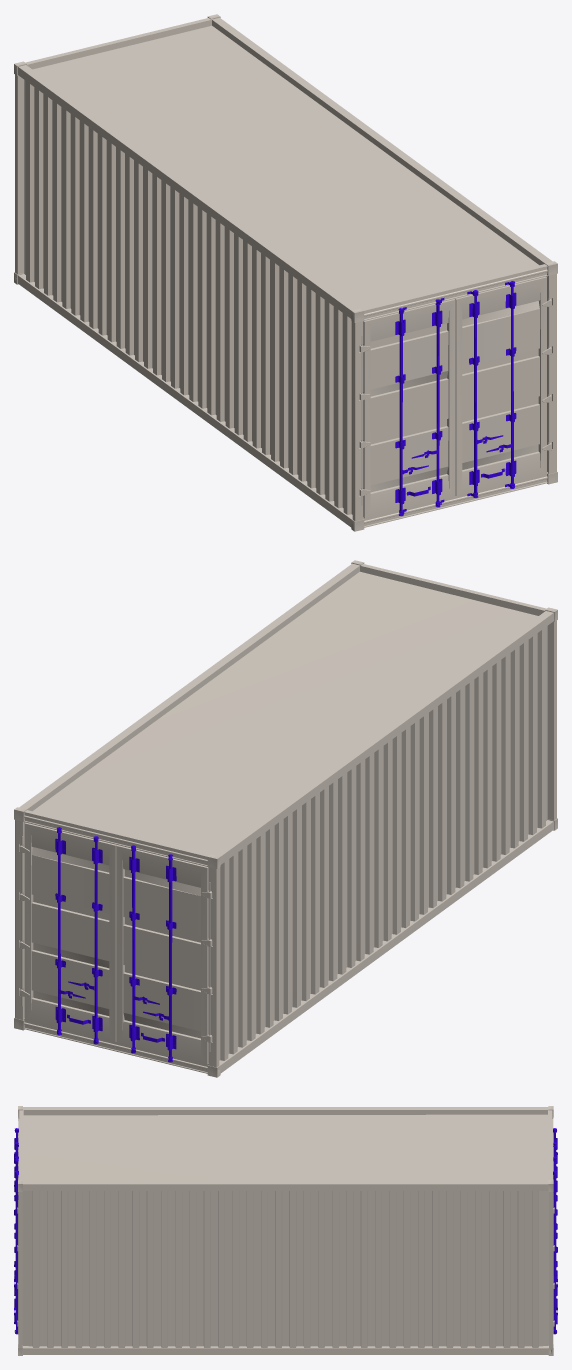
Rendered from Container.fbx.
3 views of the same model, one above another, from view 1: azimuth 30°, elevation 25°; view 2: azimuth 150°, elevation 25°; view 3: azimuth 270°, elevation 25° (orthographic). The views are drawn at different scales.
Parts seen in each view (by area): view 1: Container; view 2: Container; view 3: Container.
Boxes of the visible parts, left/top/right/bottom form: Container: left=14, top=14, right=557, bottom=531; Container: left=14, top=560, right=557, bottom=1077; Container: left=14, top=1106, right=557, bottom=1355.
Size of the model in its own units: 753 by 773 by 2218.
